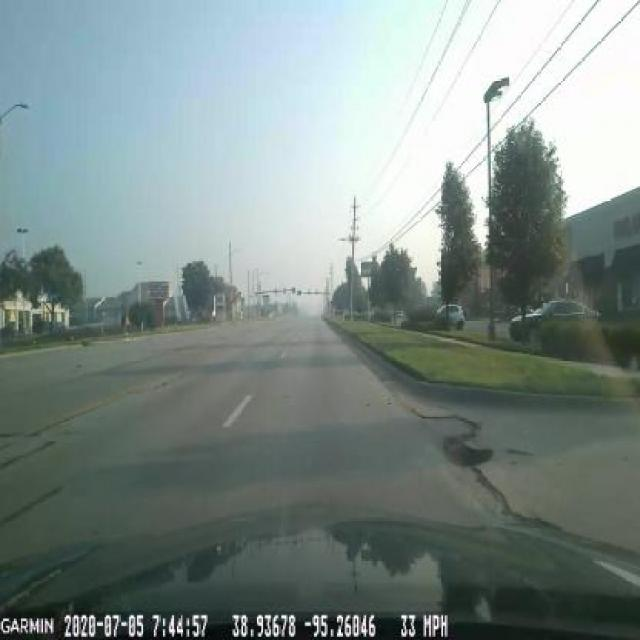Pothole: (437, 432, 500, 479)
